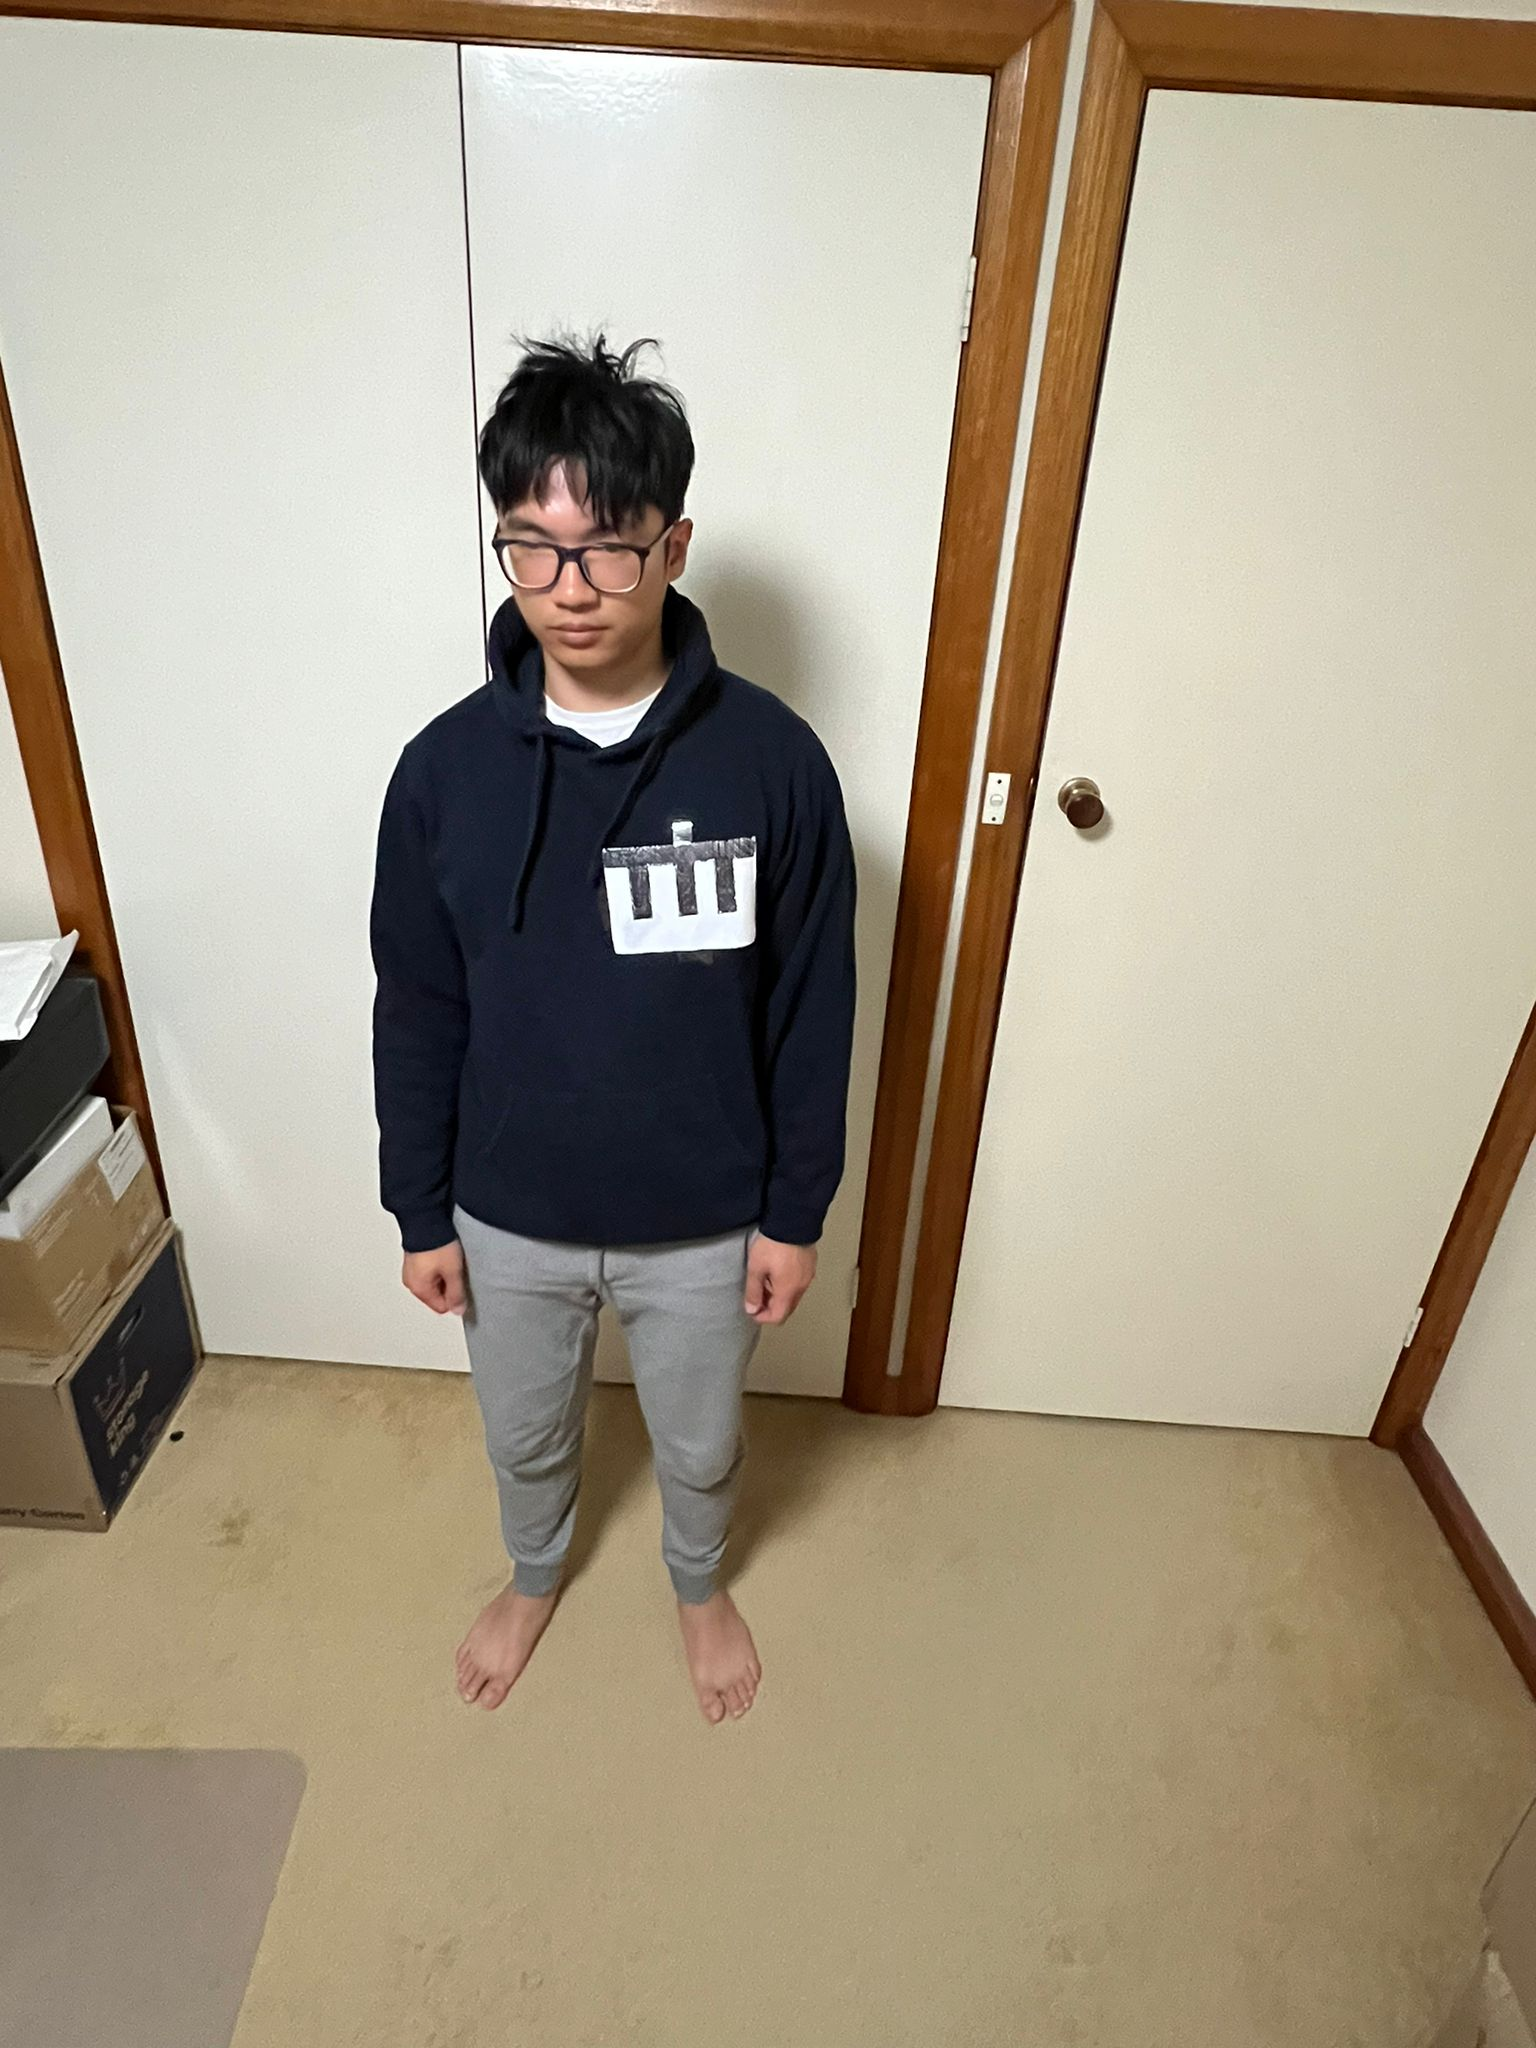Staff: (591, 814, 786, 979)
